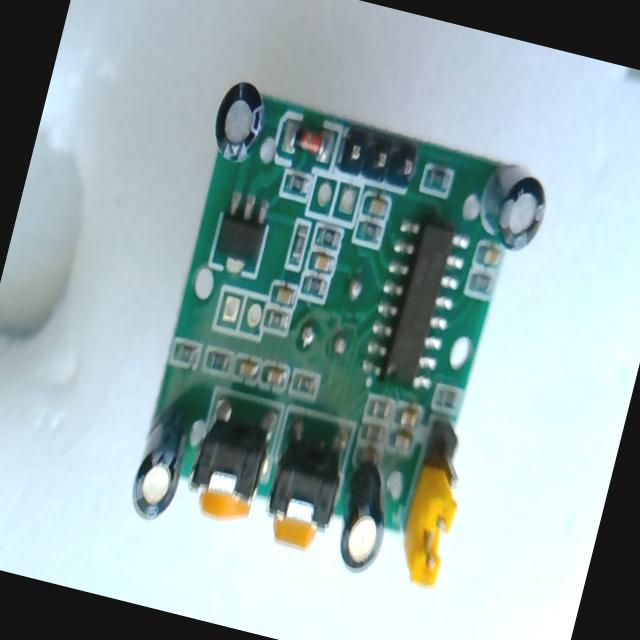Electrolytic capacitor: (326, 454, 402, 578), (125, 398, 198, 526), (470, 157, 555, 258), (206, 72, 274, 168)
IC: (358, 212, 474, 398)
pinheader: (333, 124, 421, 190)
